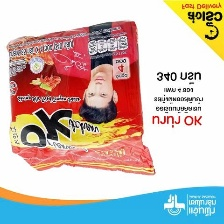snack: (0, 14, 160, 182)
